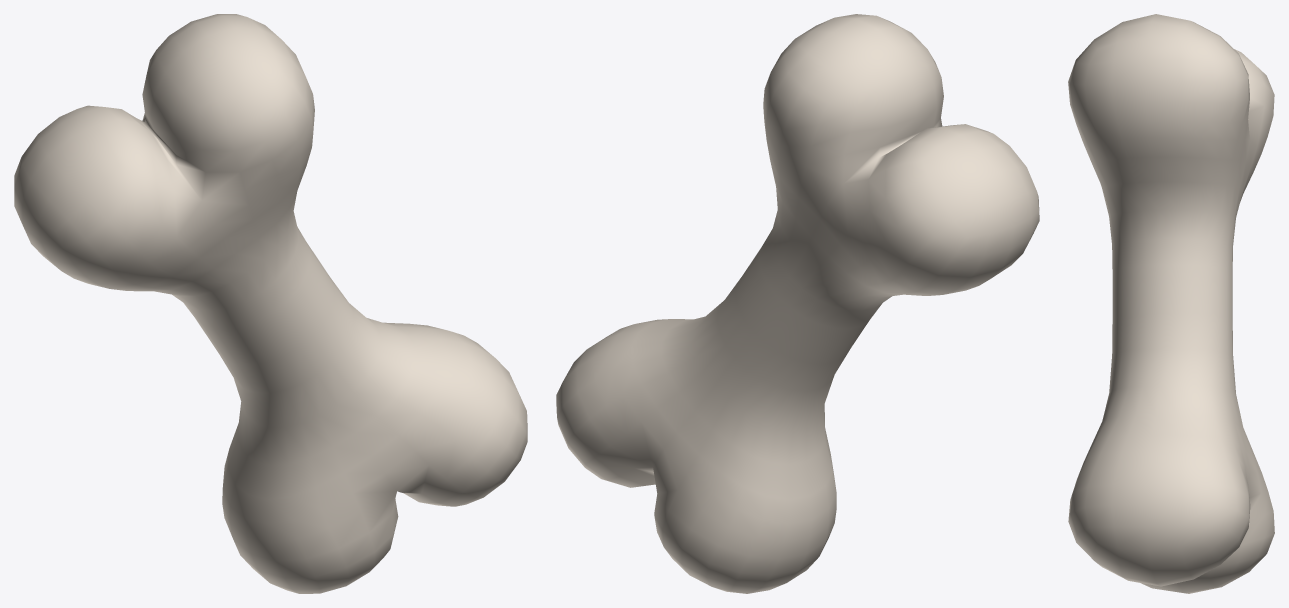
Rendered from bone.glb.
3 views of the same model, side by side, from view 1: azimuth 30°, elevation 25°; view 2: azimuth 150°, elevation 25°; view 3: azimuth 270°, elevation 25° (orthographic). The views are drawn at different scales.
Parts seen in each view (by area): view 1: Cube.005; view 2: Cube.005; view 3: Cube.005.
Boxes of the visible parts, <box> form: Cube.005: <box>14,14,527,593</box>; Cube.005: <box>556,14,1039,593</box>; Cube.005: <box>1068,14,1274,593</box>.
Bounding box in the file's own units: 1.73 × 2.06 × 0.7352.
